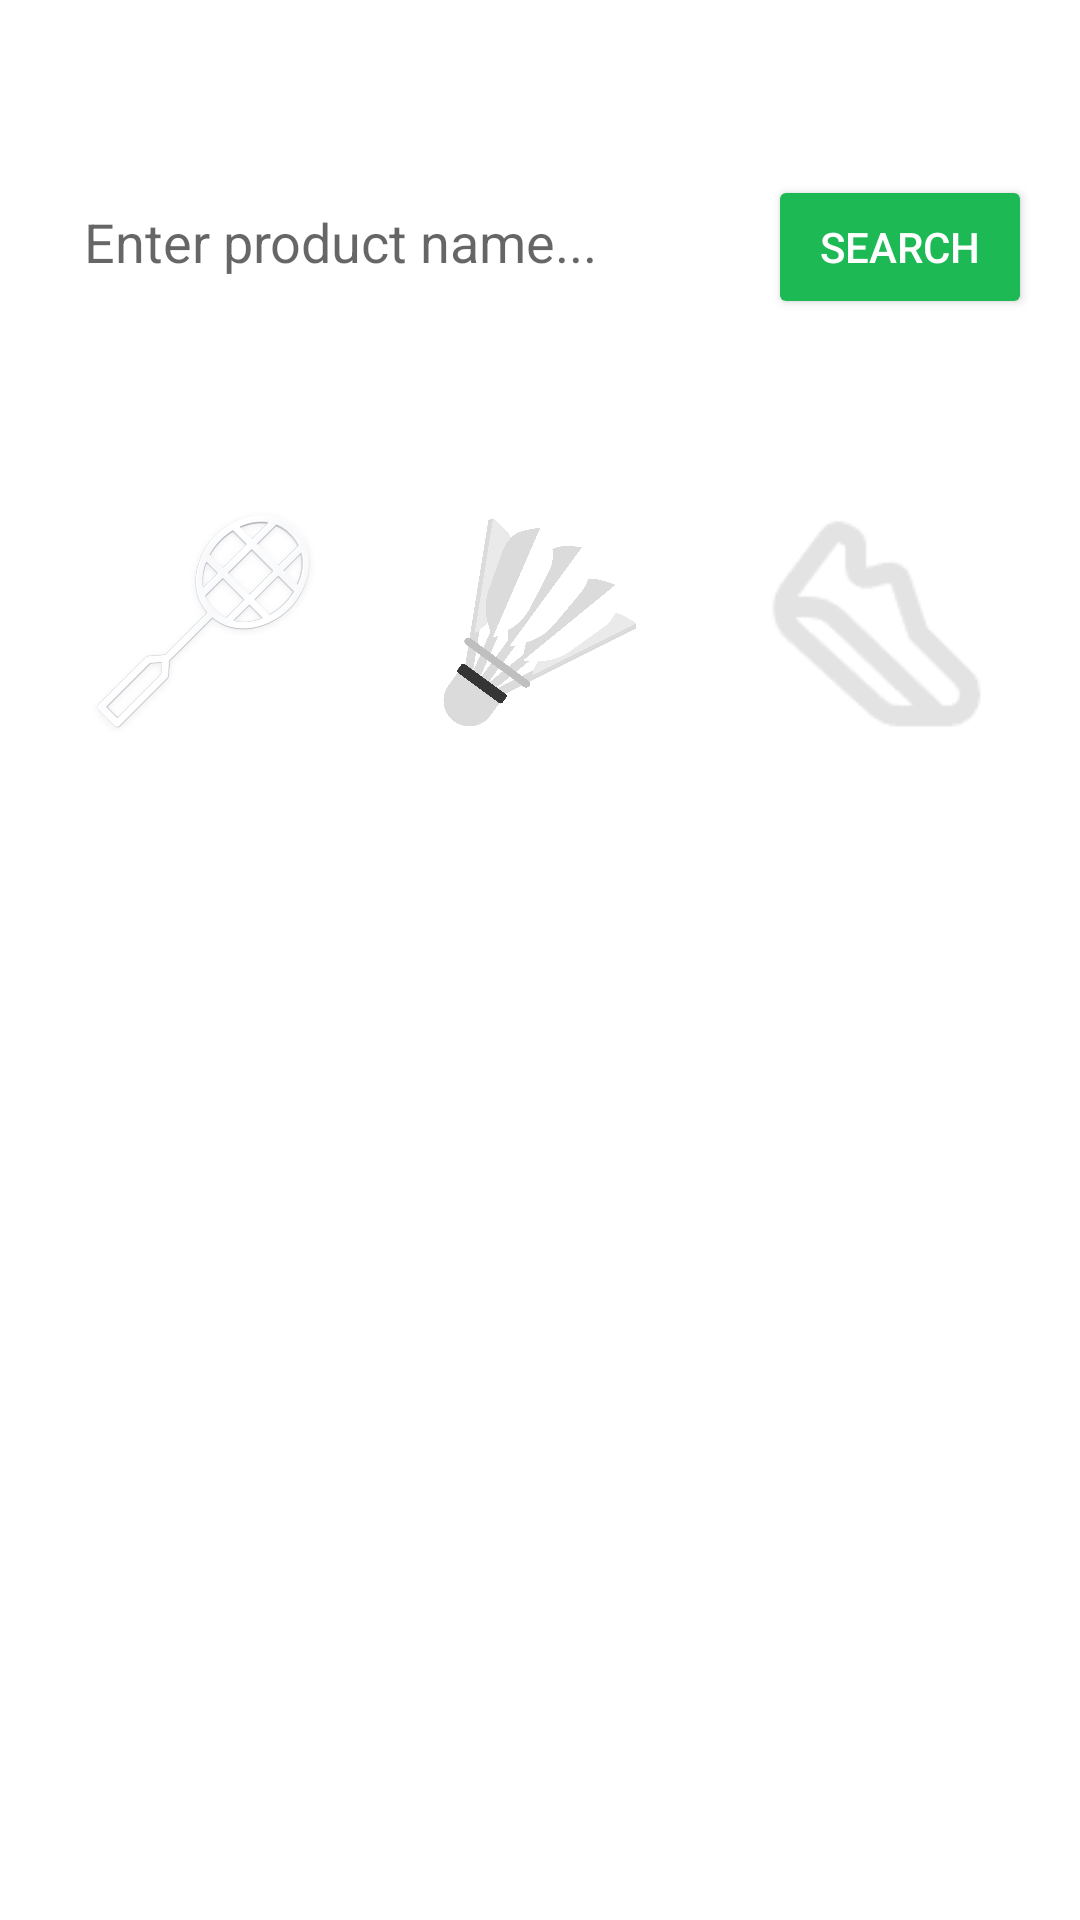

Locate icon controls on the screen. Image size 1080*1920, boxes as (x1, y1, x2, y2).
badminton: (99, 522, 308, 727)
